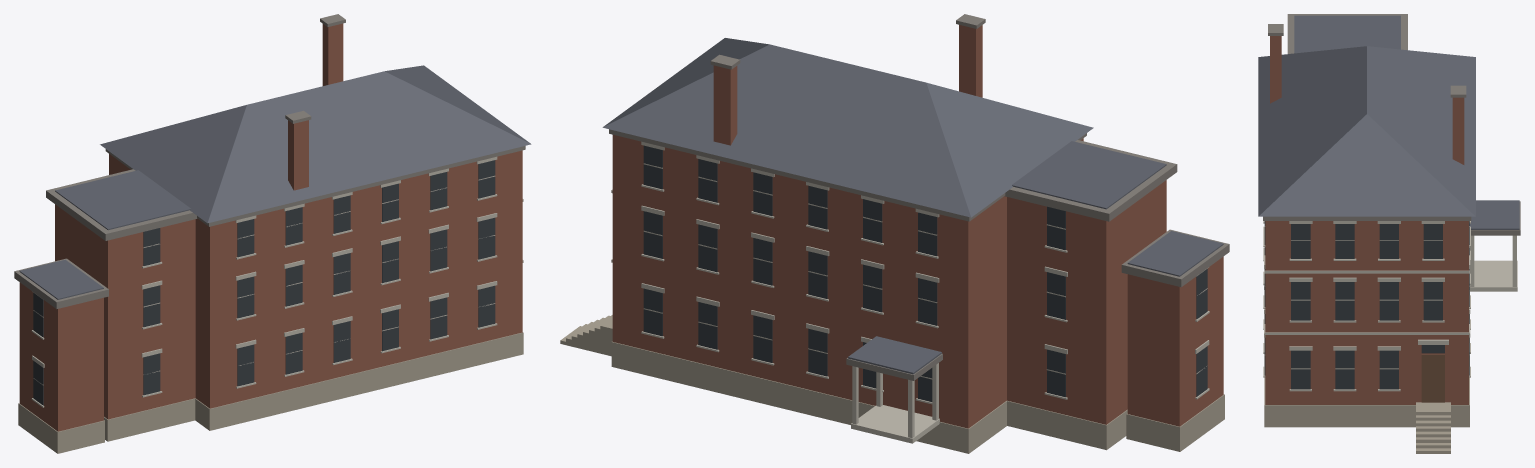
Rendered from kellogg_house_1709_prairie__draft_1904.glb.
3 renders of one model, left to right at view 1: azimuth 30°, elevation 25°; view 2: azimuth 150°, elevation 25°; view 3: azimuth 270°, elevation 25°, orthographic. The views are drawn at different scales.
Parts seen in each view (by area): view 1: kellogg_house_1709_prairie__draft_1904; view 2: kellogg_house_1709_prairie__draft_1904; view 3: kellogg_house_1709_prairie__draft_1904.
Boxes of the visible parts, bbox=[...] form: kellogg_house_1709_prairie__draft_1904: bbox=[14, 14, 531, 453]; kellogg_house_1709_prairie__draft_1904: bbox=[560, 14, 1229, 453]; kellogg_house_1709_prairie__draft_1904: bbox=[1258, 14, 1520, 453].
Size of the model in its own units: 30.5 by 16.51 by 13.5.
